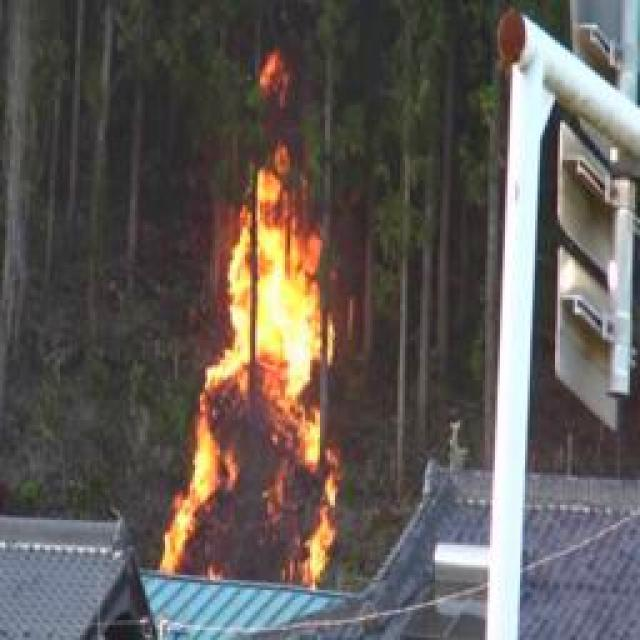Fire: (163, 157, 345, 593)
